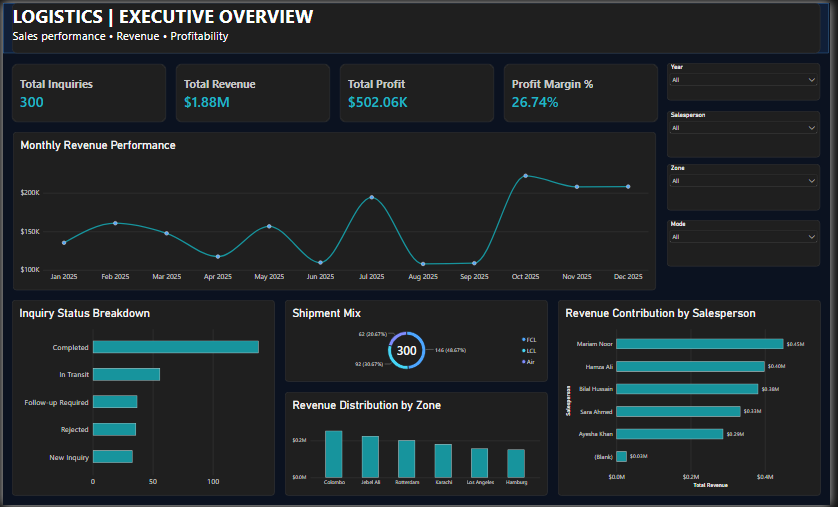

The page's visual inventory and layout, read from the dashboard file:
{"tool":"powerbi","page":{"name":"Executive Overview","canvas":[1921,1166],"ordinal":0},"visuals":[{"type":"cardVisual","fields":{"Data":["logistics_data.Total Inquiries"]},"box":[20,141,358,135.2],"z":0},{"type":"cardVisual","fields":{"Data":["logistics_data.Total Revenue"]},"box":[402,141,358,135.4],"z":1000},{"type":"cardVisual","fields":{"Data":["logistics_data.Total Profit"]},"box":[784,141,358,135.4],"z":2000},{"type":"cardVisual","fields":{"Data":["logistics_data.Profit Margin %"]},"box":[1166,141,358,135.4],"z":3000},{"type":"clusteredBarChart","title":"Revenue Contribution by Salesperson","fields":{"Category":["logistics_data.Salesperson"],"Y":["logistics_data.Total Revenue"]},"box":[1290,691,611,455],"z":4000},{"type":"donutChart","title":"Shipment Mix","fields":{"Category":["logistics_data.Mode"],"Y":["logistics_data.Total Inquiries"]},"box":[655,691,611,190],"z":5000},{"type":"clusteredBarChart","title":"Inquiry Status Breakdown","fields":{"Category":["logistics_data.Job_Status"],"Y":["logistics_data.Total Inquiries"]},"box":[20,691,611,455],"z":6000},{"type":"clusteredColumnChart","title":"Revenue Distribution by Zone","fields":{"Category":["logistics_data.POD"],"Y":["logistics_data.Total Revenue"]},"box":[655,905,611,241],"z":7000},{"type":"lineChart","title":"Monthly Revenue Performance","fields":{"Category":["Calendar.Year Month"],"Y":["logistics_data.Total Revenue"]},"box":[23,299.1,1495.4,368.1],"z":8000},{"type":"shape","box":[0,0,1919.8,116.9],"z":9000},{"type":"textbox","box":[20,0,1880,117],"z":10000},{"type":"slicer","fields":{"Values":["Calendar.Year"]},"box":[1544.7,140,355.8,87.2],"z":11000},{"type":"slicer","fields":{"Values":["logistics_data.Zone"]},"box":[1544.7,374.1,355.8,107.9],"z":12000},{"type":"slicer","fields":{"Values":["logistics_data.Salesperson"]},"box":[1544.7,250.2,355.8,107.9],"z":13000},{"type":"slicer","fields":{"Values":["logistics_data.Mode"]},"box":[1544.7,505,355.8,107.9],"z":14000}]}

Visuals, with their boxes in screenshot pixels (x1, y1, x2, y2), scaled from the page's 1921x1166 canvas onto the 838x507 screenshot:
cardVisual - logistics_data.Total Inquiries: 9, 61, 165, 120
cardVisual - logistics_data.Total Revenue: 175, 61, 332, 120
cardVisual - logistics_data.Total Profit: 342, 61, 498, 120
cardVisual - logistics_data.Profit Margin %: 509, 61, 665, 120
"Revenue Contribution by Salesperson" clusteredBarChart: 563, 300, 829, 498
"Shipment Mix" donutChart: 286, 300, 552, 383
"Inquiry Status Breakdown" clusteredBarChart: 9, 300, 275, 498
"Revenue Distribution by Zone" clusteredColumnChart: 286, 394, 552, 498
"Monthly Revenue Performance" lineChart: 10, 130, 662, 290
shape: 0, 0, 837, 51
textbox: 9, 0, 829, 51
slicer - Calendar.Year: 674, 61, 829, 99
slicer - logistics_data.Zone: 674, 163, 829, 210
slicer - logistics_data.Salesperson: 674, 109, 829, 156
slicer - logistics_data.Mode: 674, 220, 829, 267
